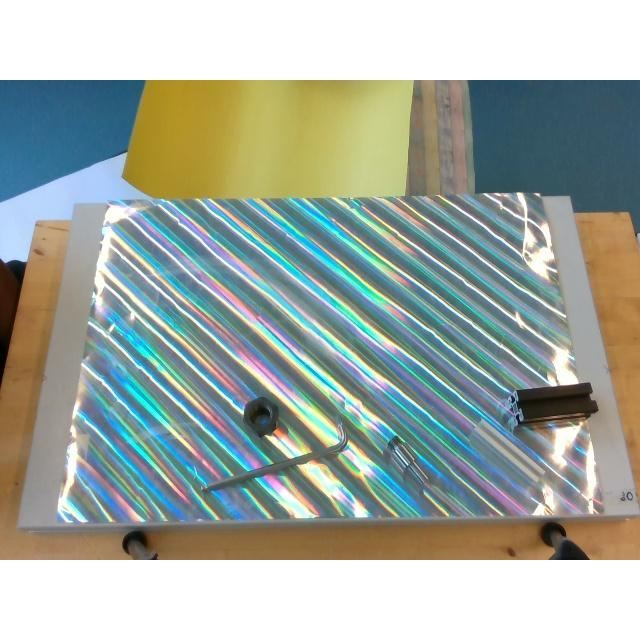AllenKey: (202, 414, 348, 491)
Axis2: (388, 435, 428, 493)
F20_20_G: (469, 420, 546, 502)
M20: (242, 396, 278, 436)
S40_40_B: (506, 382, 598, 430)
